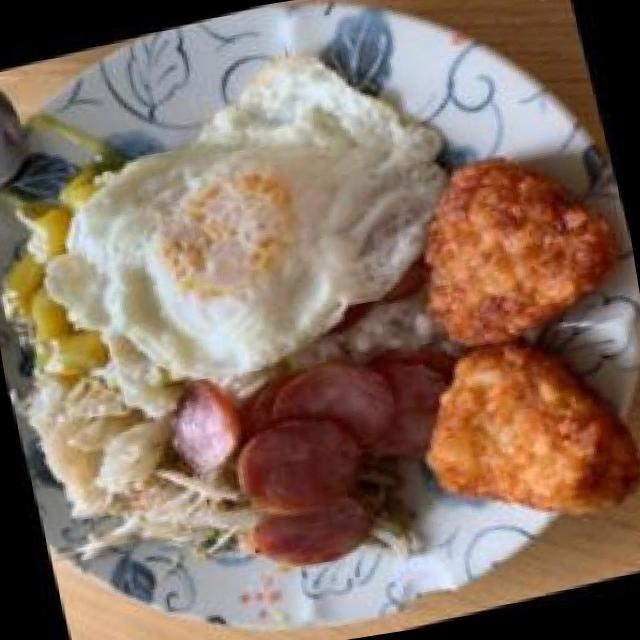chinese_cabbage: (17, 358, 166, 518)
chinese_sausage: (152, 315, 500, 596)
curry: (0, 182, 114, 390)
fried_eggs: (0, 18, 489, 421)
mung_bean_sprouts: (88, 458, 261, 580)
rice: (298, 290, 442, 375)
triangle_hash_brown: (351, 124, 640, 556)
